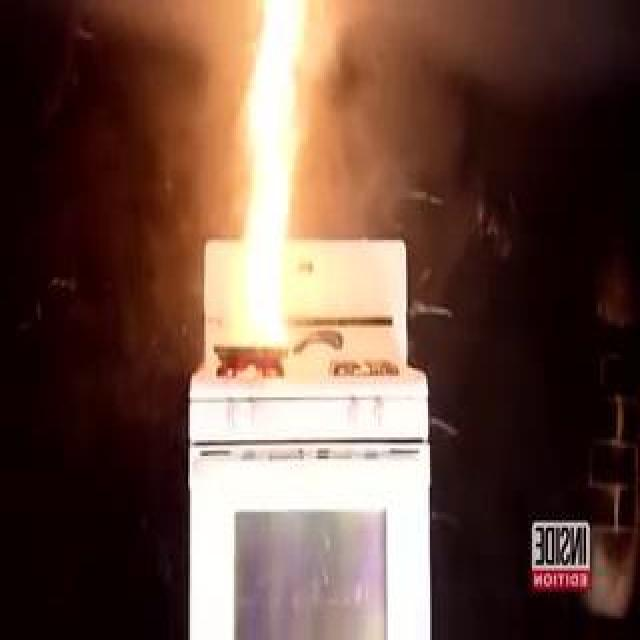Fire: (206, 3, 324, 357)
